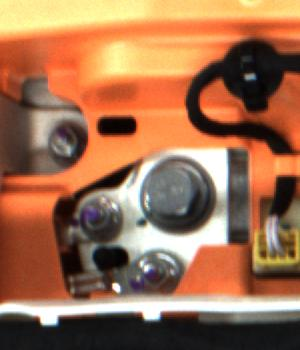nut_b: (142, 155, 221, 229)
